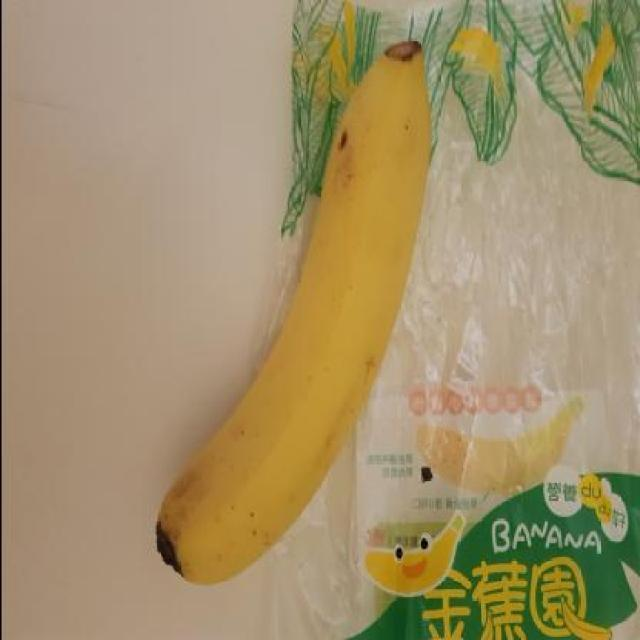Banana: (144, 25, 446, 598)
